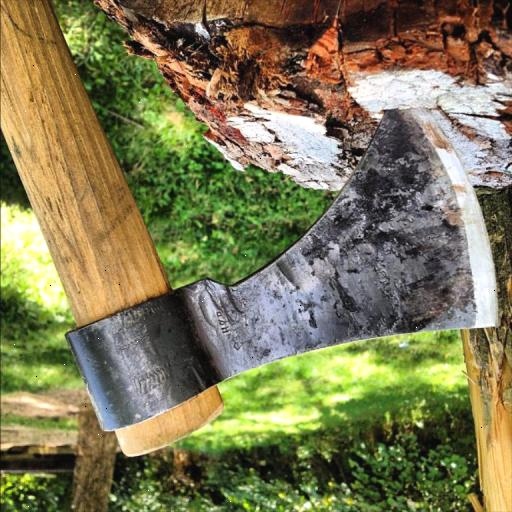Axe: (0, 1, 504, 461)
